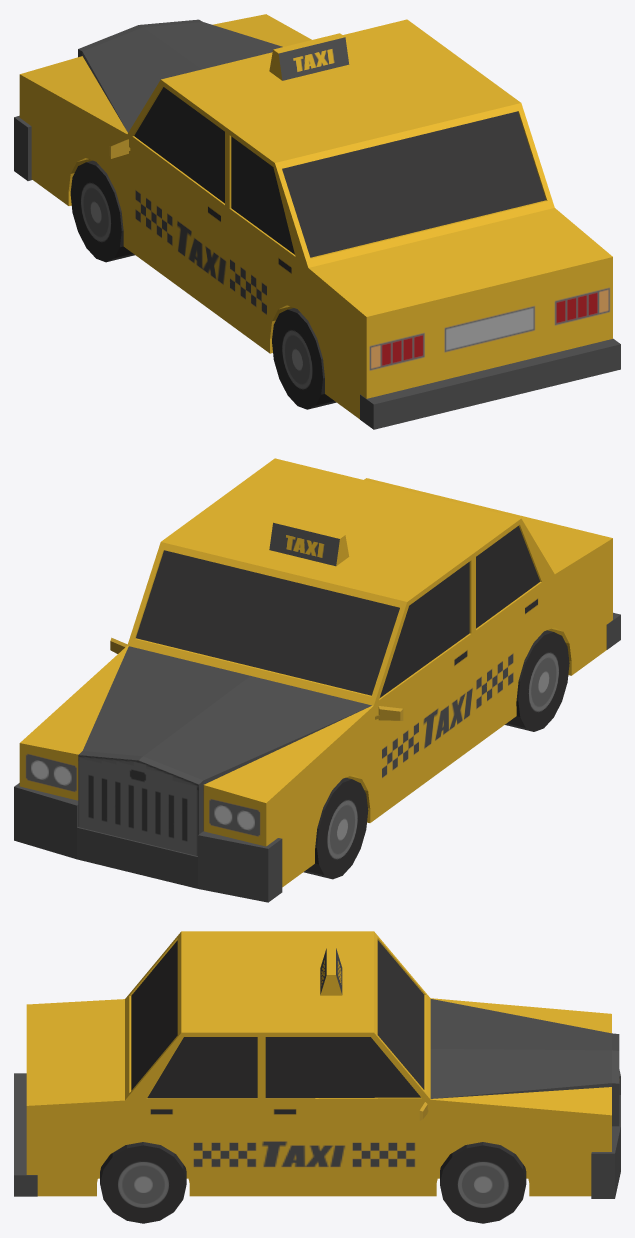
Rendered from LevelCar_9.fbx.
3 views of the same model, one above another, from view 1: azimuth 30°, elevation 25°; view 2: azimuth 150°, elevation 25°; view 3: azimuth 270°, elevation 25° (orthographic). The views are drawn at different scales.
Visible parts, largest first — view 1: Vehicle_Taxi__8_; view 2: Vehicle_Taxi__8_; view 3: Vehicle_Taxi__8_.
Part boxes in pixels (x1,y1,x2,y2): Vehicle_Taxi__8_: [14, 14, 620, 429]; Vehicle_Taxi__8_: [14, 458, 620, 902]; Vehicle_Taxi__8_: [14, 931, 620, 1223].
Size of the model in its own units: 155 by 128 by 332.
1 material, 1 textured.
